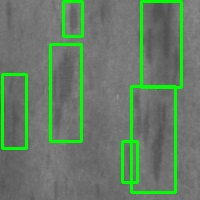inclusion: (131, 86, 175, 192), (141, 1, 181, 87), (50, 44, 81, 141), (2, 74, 26, 148), (63, 1, 82, 36), (122, 141, 137, 182), (2, 2, 16, 29)
